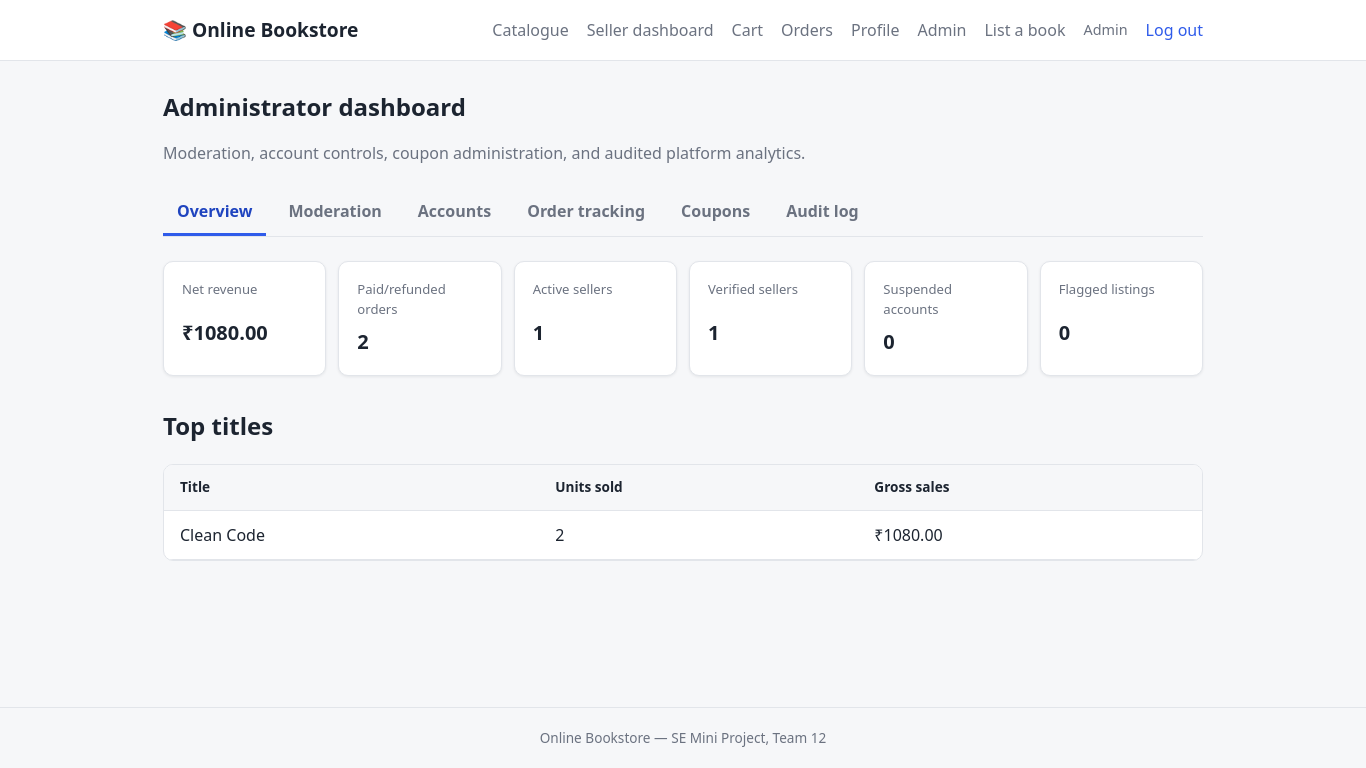
Test: catalogue frontend › renders the administrator analytics dashboard
Expected: the heading "Administrator dashboard" is shown, 163,90 -> 466,123
Expected: the text "₹1080.00" is shown 2 times, 182,318 -> 268,346; 858,510 -> 1202,559
Click the button "Accounts". click: (454,212)
box: 404,189 -> 505,236
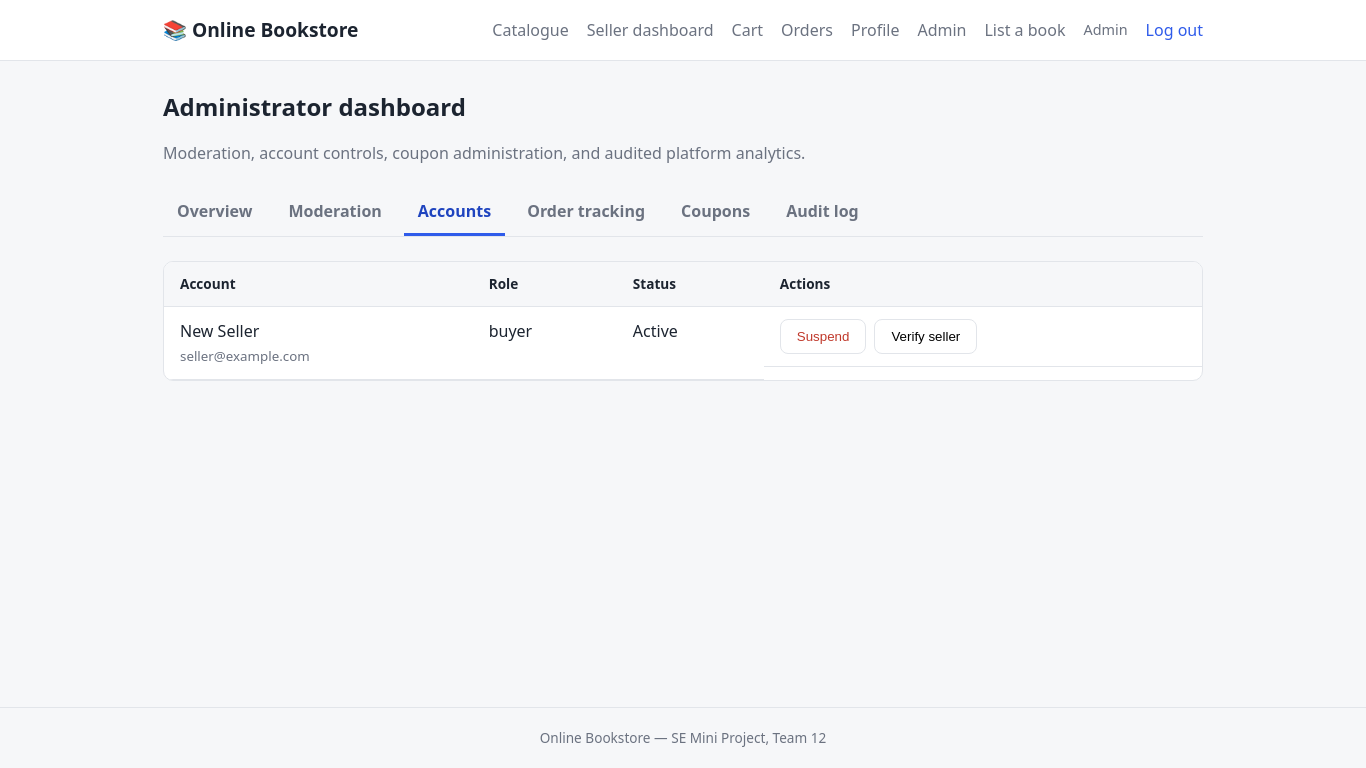
Expected: the text "seller@example.com" is shown, 180,347 -> 310,365
Expected: the button "Verify seller" is shown, 874,319 -> 977,354
